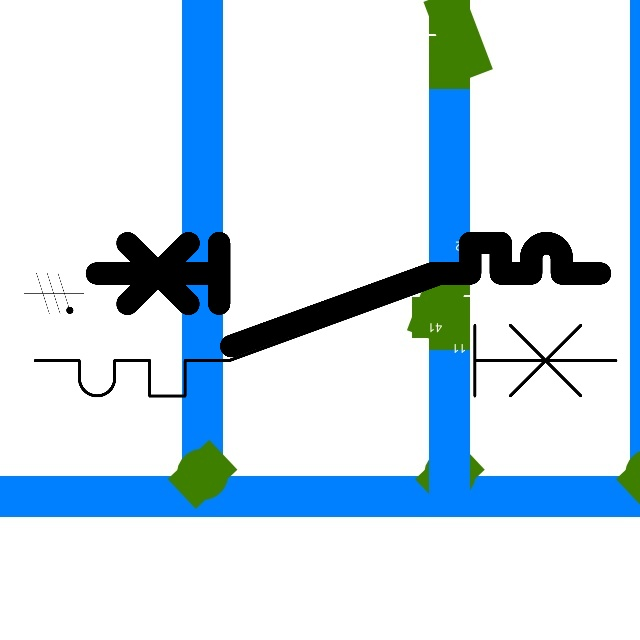interruptor_termomagnetico: (20, 261, 631, 411), (83, 230, 612, 359)
